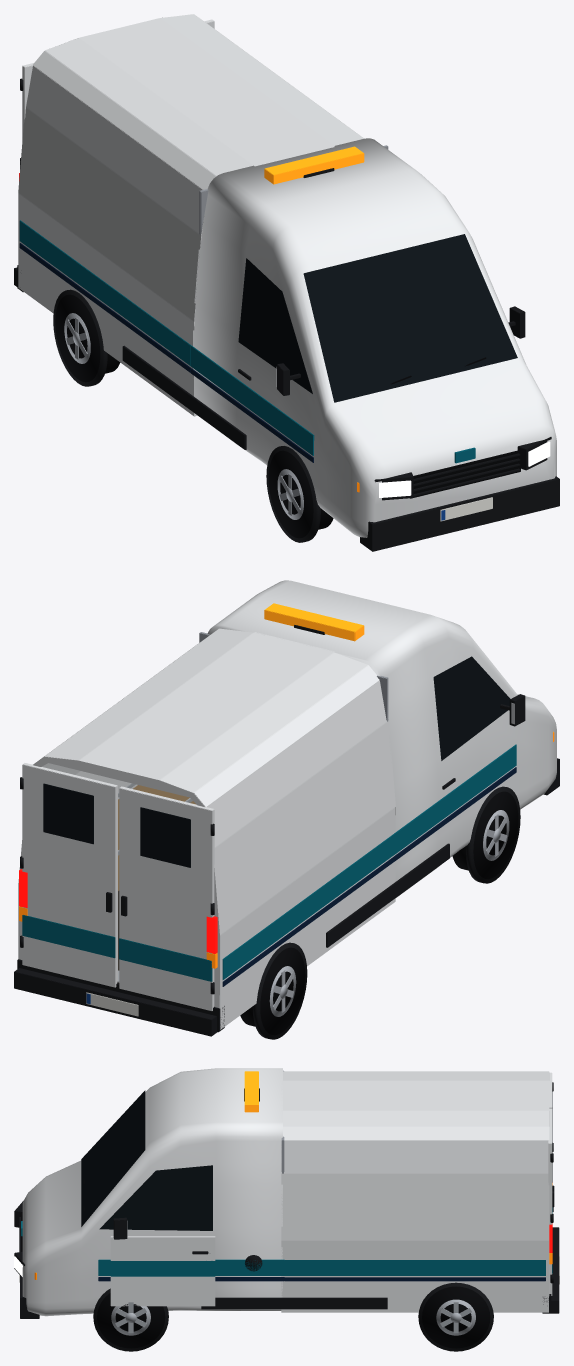
File: deliver_van.glb
The picture shows the model from 3 angles, top to bottom: view 1: azimuth 30°, elevation 25°; view 2: azimuth 150°, elevation 25°; view 3: azimuth 270°, elevation 25°; orthographic projection. The views are drawn at different scales.
Visible parts, largest first — view 1: Van_Paint, loft, Van_Glass, Van_Trim, Van_Teal, PC_Black, Van_Trim.001, Van_Navy, PC_Black.001, Van_BeaconMat, Van_HeadMat; view 2: Van_Paint, loft, Van_Paint.002, Van_Paint.003, Van_Trim, Van_Teal, Van_Glass, PC_Black, Van_Glass.002, Van_Glass.001, Van_Teal.002, Van_Teal.003 (+5 smaller); view 3: Van_Paint, loft, Van_Glass, Van_Paint.001, Van_Teal, Van_Trim, PC_Black, Van_Trim.001, Van_Navy, Van_Teal.001, Van_BeaconMat, Van_Paint.002 (+6 smaller).
Boxes of the visible parts, box(x1,y1,x2,y2) form: Van_Paint: box(18, 14, 363, 416); loft: box(193, 138, 556, 537); Van_Glass: box(238, 234, 517, 402); Van_Trim: box(14, 168, 559, 551); Van_Teal: box(19, 220, 475, 463); PC_Black: box(55, 294, 313, 538); Van_Trim.001: box(53, 289, 320, 542); Van_Navy: box(19, 243, 313, 462); PC_Black.001: box(391, 357, 520, 498); Van_BeaconMat: box(264, 146, 364, 184); Van_HeadMat: box(379, 441, 550, 497); Van_Paint: box(18, 628, 395, 1029); loft: box(207, 580, 556, 897); Van_Paint.002: box(22, 763, 117, 987); Van_Paint.003: box(119, 786, 214, 1010); Van_Trim: box(14, 625, 559, 1036); Van_Teal: box(222, 744, 516, 979); Van_Glass: box(433, 656, 510, 760); PC_Black: box(260, 791, 518, 1035); Van_Glass.002: box(140, 807, 190, 867); Van_Glass.001: box(43, 783, 93, 844); Van_Teal.002: box(22, 915, 115, 958); Van_Teal.003: box(119, 938, 212, 981); Van_Paint: box(281, 1071, 549, 1312); loft: box(22, 1068, 282, 1316); Van_Glass: box(81, 1090, 212, 1230); Van_Paint.001: box(110, 1236, 215, 1306); Van_Teal: box(21, 1221, 545, 1275); Van_Trim: box(14, 1088, 559, 1318); PC_Black: box(97, 1286, 490, 1348); Van_Trim.001: box(93, 1255, 493, 1351); Van_Navy: box(98, 1277, 545, 1281); Van_Teal.001: box(110, 1261, 215, 1276); Van_BeaconMat: box(244, 1071, 258, 1112); Van_Paint.002: box(548, 1108, 552, 1295).
Size of the model in its own units: 2.4 by 2.8 by 6.15.
